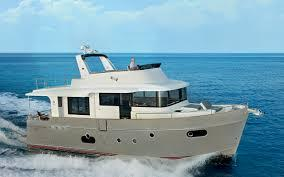Ship: (27, 46, 248, 159)
